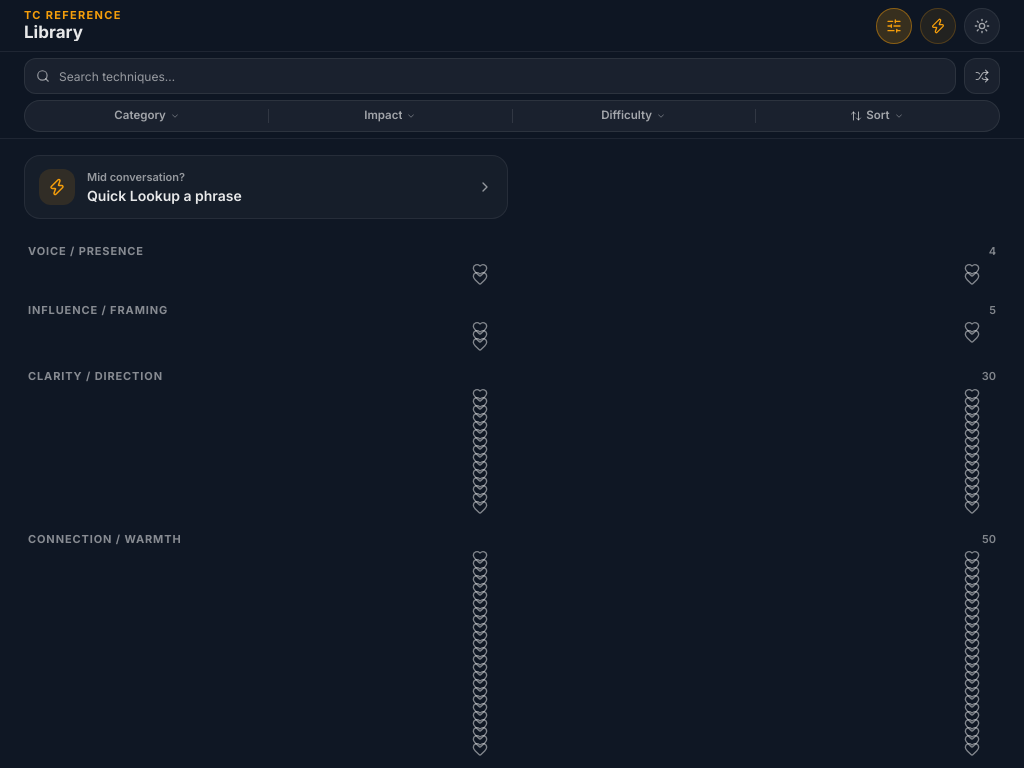
Test: Library smart search toggle › opens the popout from the library search input
Click the dropdown with test id "library-search-input" at (490, 76), box left=24, top=58, right=956, bottom=94
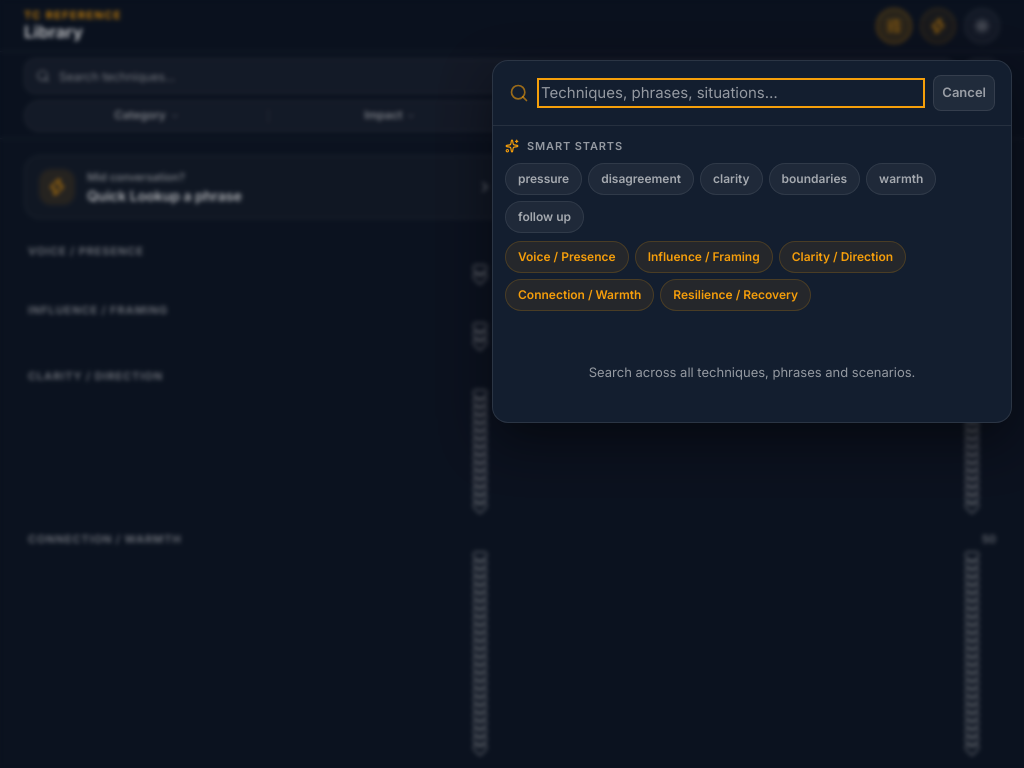
Result: the dropdown with test id "library-search-input" is expanded at left=24, top=58, right=956, bottom=94
Result: the dialog with test id "search-modal" is shown
Result: the text "Smart starts" is shown at left=527, top=138, right=623, bottom=154
